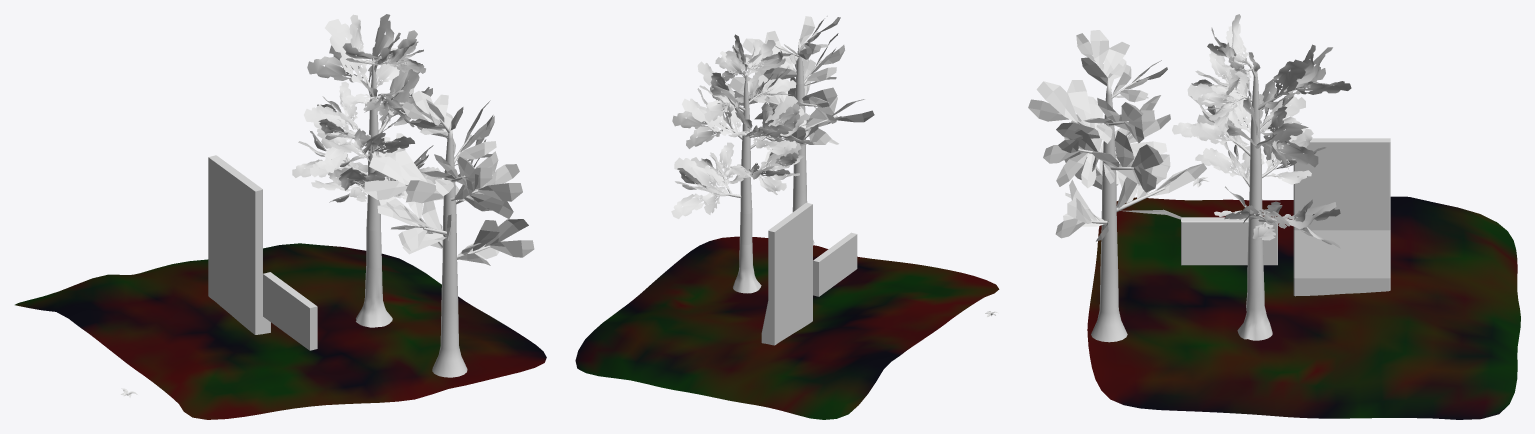
File: Outside.glb
The picture shows the model from 3 angles, left to right: view 1: azimuth 30°, elevation 25°; view 2: azimuth 150°, elevation 25°; view 3: azimuth 270°, elevation 25°; orthographic projection. The views are drawn at different scales.
Parts seen in each view (by area): view 1: OutsideGround, Tree_Low, Tree, OuterWall, OuterWall_Small; view 2: OutsideGround, Tree, Tree_Low, OuterWall, OuterWall_Small; view 3: OutsideGround, Tree_Low, Tree, OuterWall, OuterWall_Small.
Part boxes in pixels (x1,y1,x2,y2): OutsideGround: [15, 243, 546, 419]; Tree_Low: [364, 91, 534, 377]; Tree: [292, 14, 441, 327]; OuterWall: [208, 155, 270, 334]; OuterWall_Small: [263, 272, 317, 350]; OutsideGround: [575, 236, 999, 419]; Tree: [671, 34, 813, 293]; Tree_Low: [730, 16, 874, 245]; OuterWall: [761, 202, 812, 345]; OuterWall_Small: [813, 232, 857, 296]; OutsideGround: [1087, 196, 1520, 419]; Tree_Low: [1028, 30, 1206, 342]; Tree: [1172, 14, 1351, 340]; OuterWall: [1293, 138, 1390, 296]; OuterWall_Small: [1181, 217, 1277, 265].
Size of the model in its own units: 48.66 by 38.61 by 50.84.
